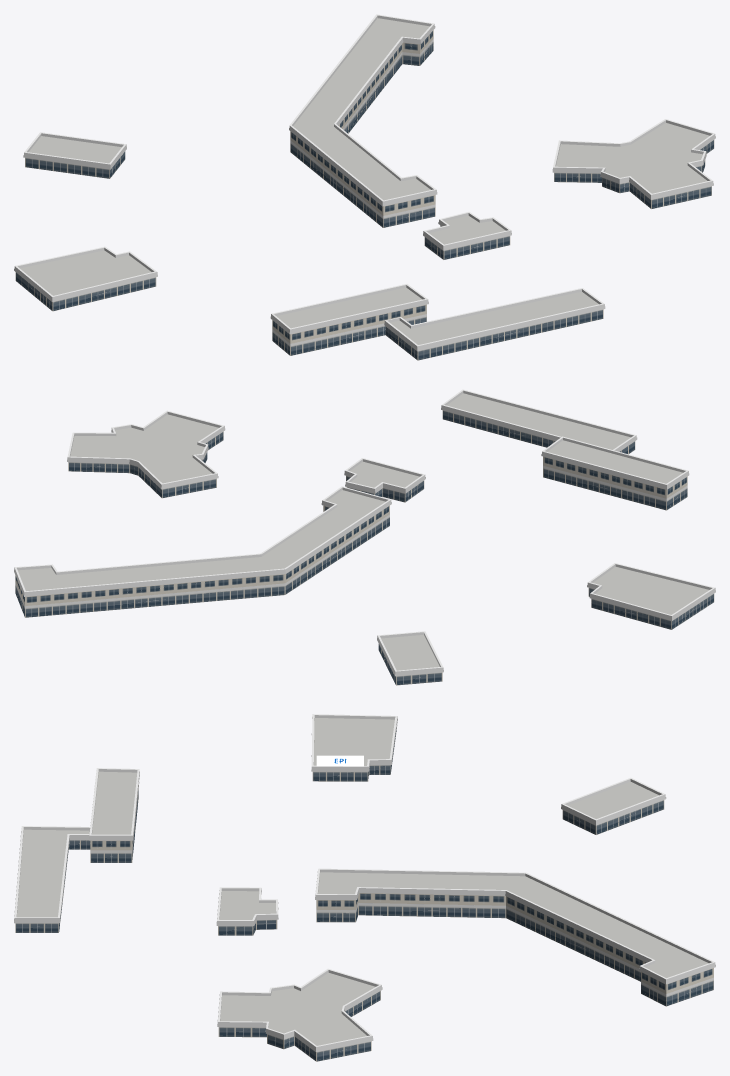
Rendered from epi.glb.
The picture shows the model from 3 angles, top to bottom: view 1: azimuth 30°, elevation 25°; view 2: azimuth 150°, elevation 25°; view 3: azimuth 270°, elevation 25°; orthographic projection. The views are drawn at different scales.
Visible parts, largest first — view 1: epi_lod0; view 2: epi_lod0; view 3: epi_lod0.
Boxes of the visible parts, x1=… form: epi_lod0: x1=14, y1=14, x2=715, y2=360; epi_lod0: x1=14, y1=389, x2=715, y2=685; epi_lod0: x1=14, y1=714, x2=715, y2=1061.
Size of what is drawn, in the model's own units: 206 by 7.99 by 183.
5 materials, 3 textured.
